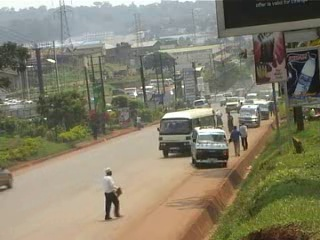Car: (0, 163, 12, 193)
